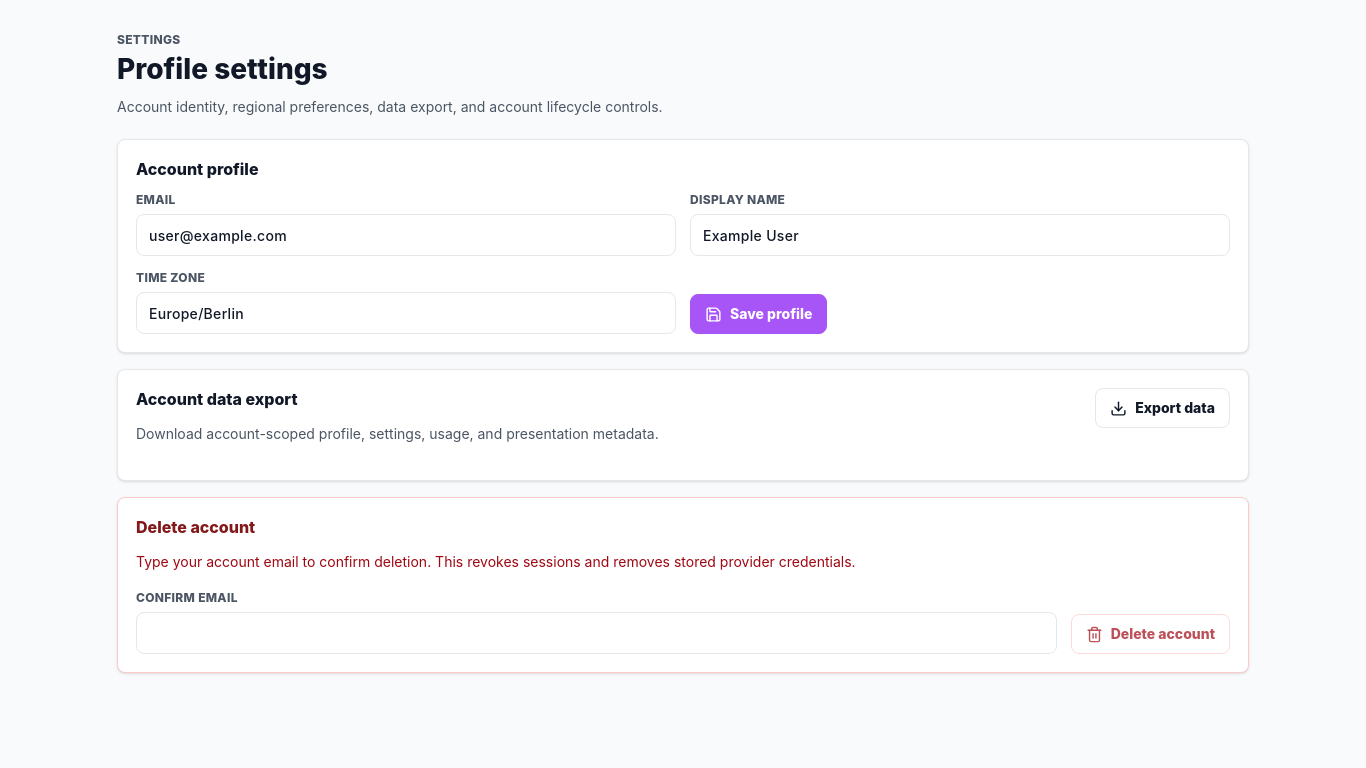
ProfileSettings › loads and saves account profile preferences
Check: the field showing "user@example.com" is shown, box 136,214 -> 676,256
Replace the text in the field labelled "Display name" with "Updated User": (960, 235) 690,214 -> 1230,256
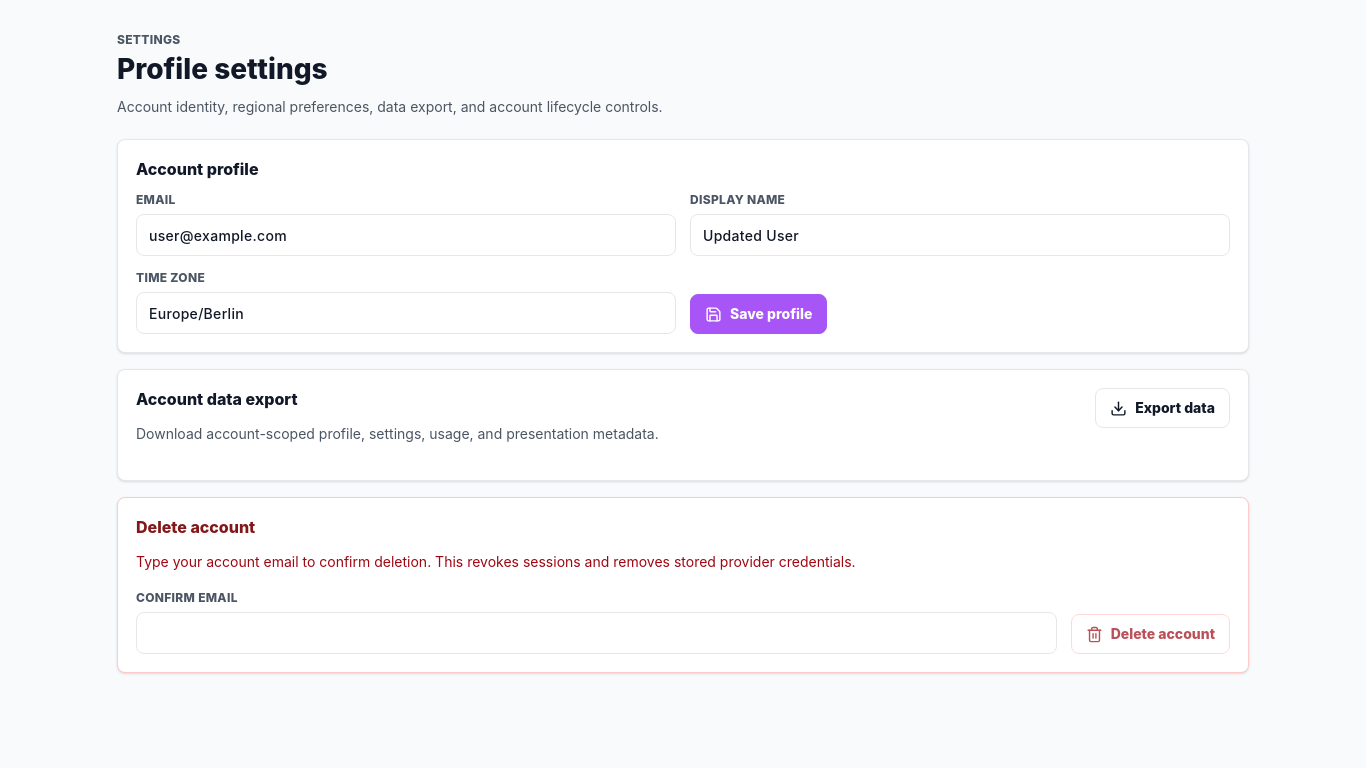
Replace the text in the field labelled "Time zone" with "America/New_York": (406, 313) 136,292 -> 676,334
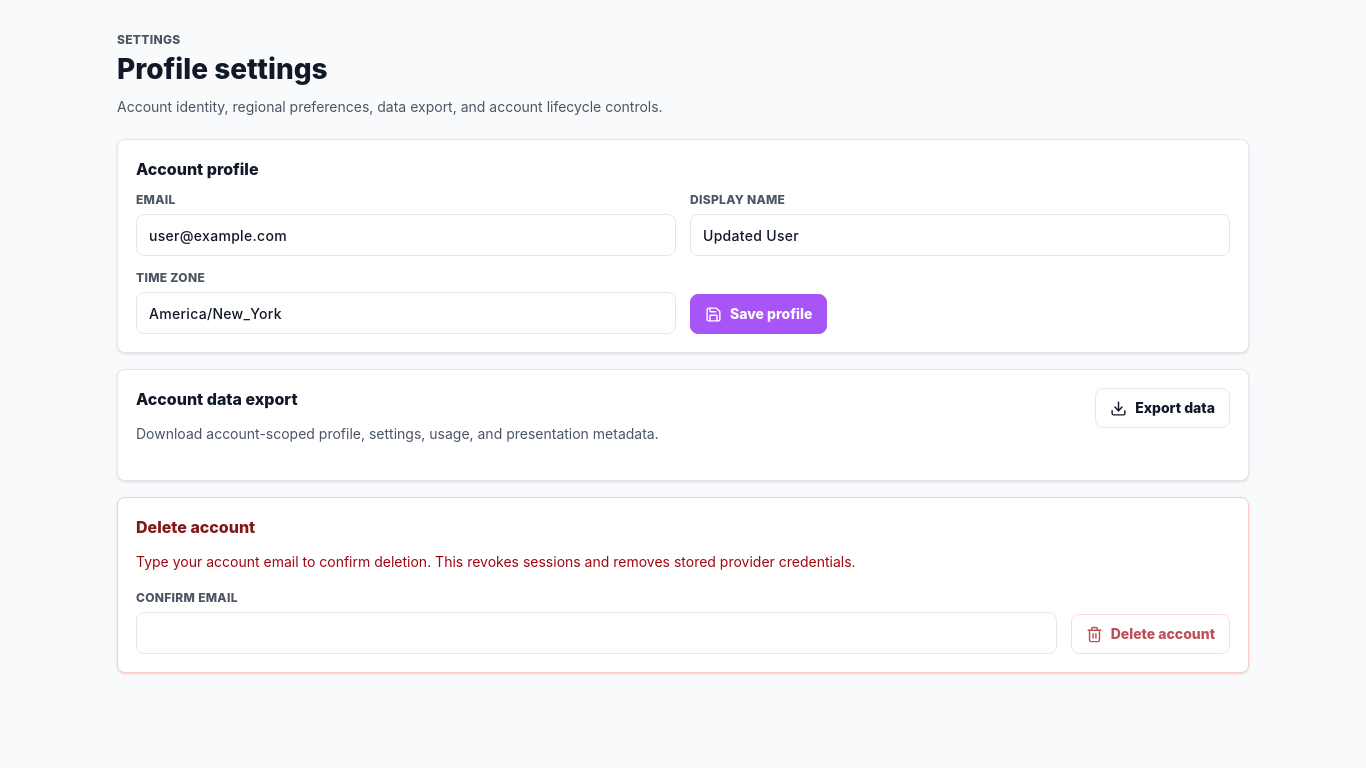
Click the button "Save profile": (759, 314) 690,294 -> 827,334
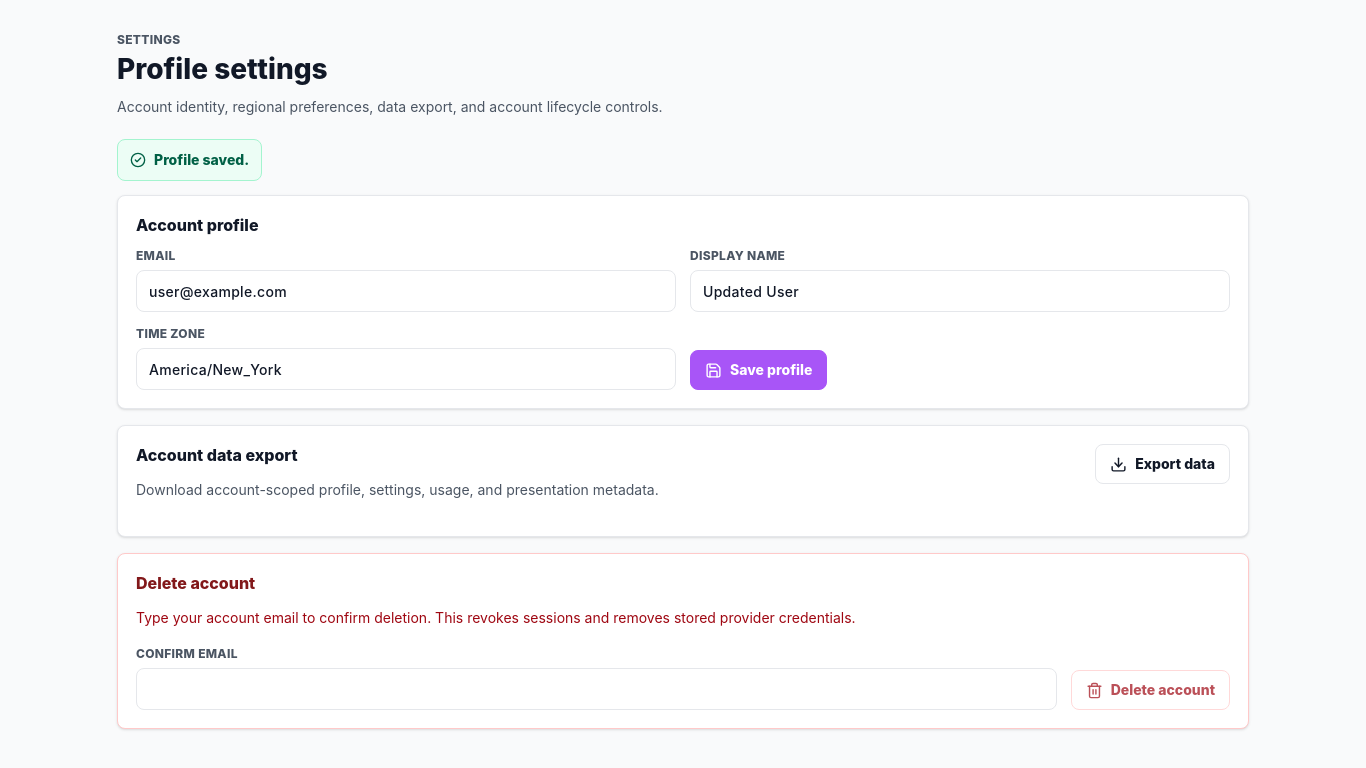
Check: the text "Profile saved." is shown, box 117,139 -> 262,181
